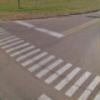crosswalks: (0, 24, 100, 100)
